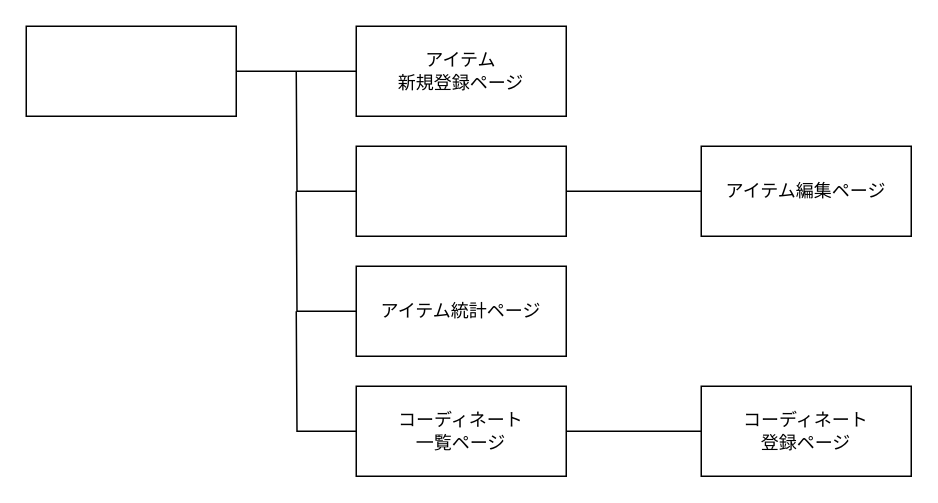
Image size: 938x503. Some labels were removed from this diagram. The shapes that lost their labels are listed below. From the top down, each one's centre as x and y in pixels, then its label:
(x=130, y=70): アイテム一覧ページ
(x=460, y=190): アイテム詳細ページ
